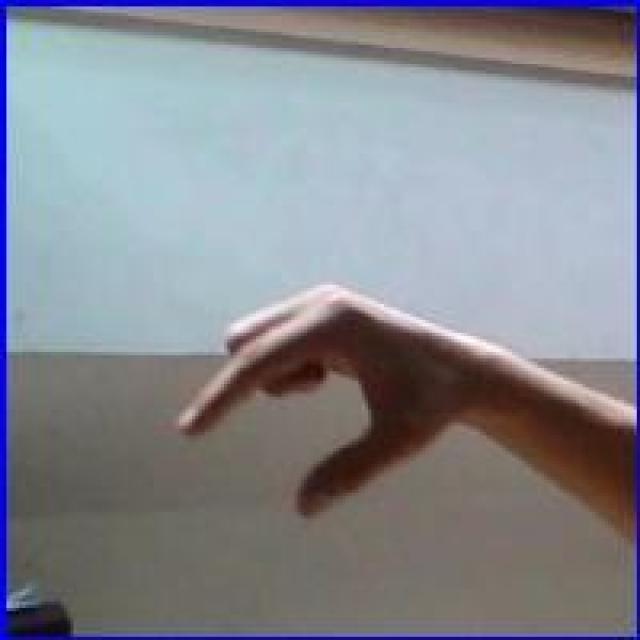Q: (171, 274, 466, 523)
